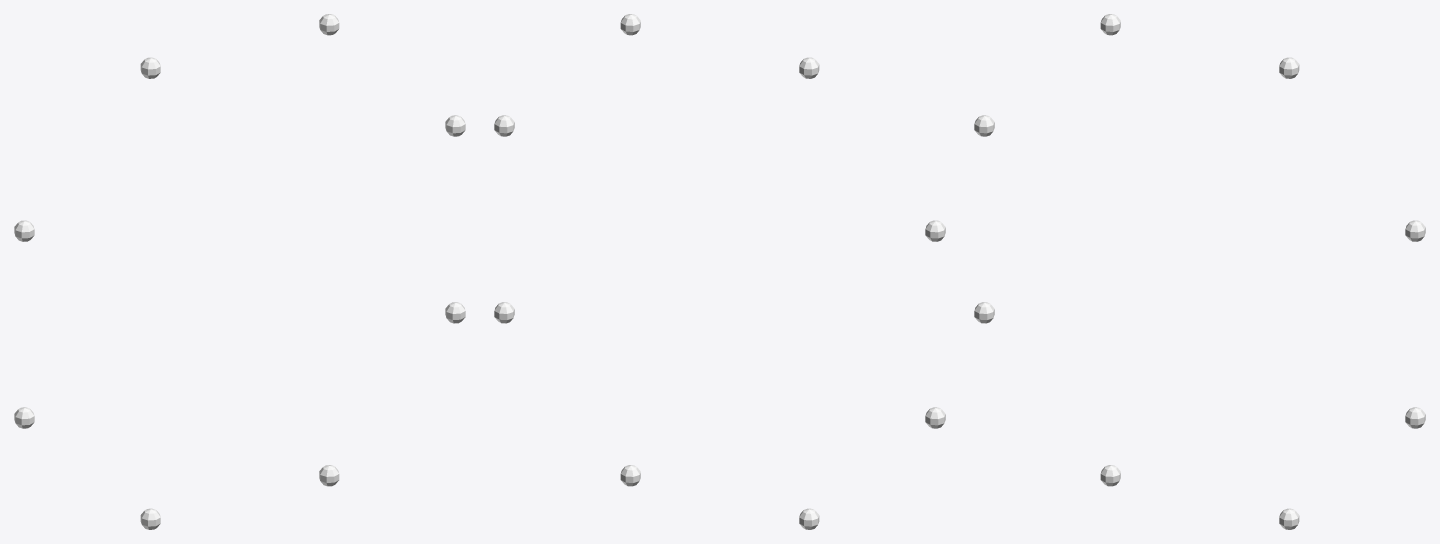
The model's file is RingNodes3.obj.
3 renders of one model, left to right at view 1: azimuth 30°, elevation 25°; view 2: azimuth 150°, elevation 25°; view 3: azimuth 330°, elevation 25°, orthographic.
Visible parts, largest first — view 1: RingNodes3; view 2: RingNodes3; view 3: RingNodes3.
Boxes of the visible parts, x1,y1,x2,y2 form: RingNodes3: (14,14,465,529); RingNodes3: (494,14,945,529); RingNodes3: (974,14,1425,529).
Size of the model in its own units: 14.63 by 14.66 by 0.5897.
1 material, 1 textured.
